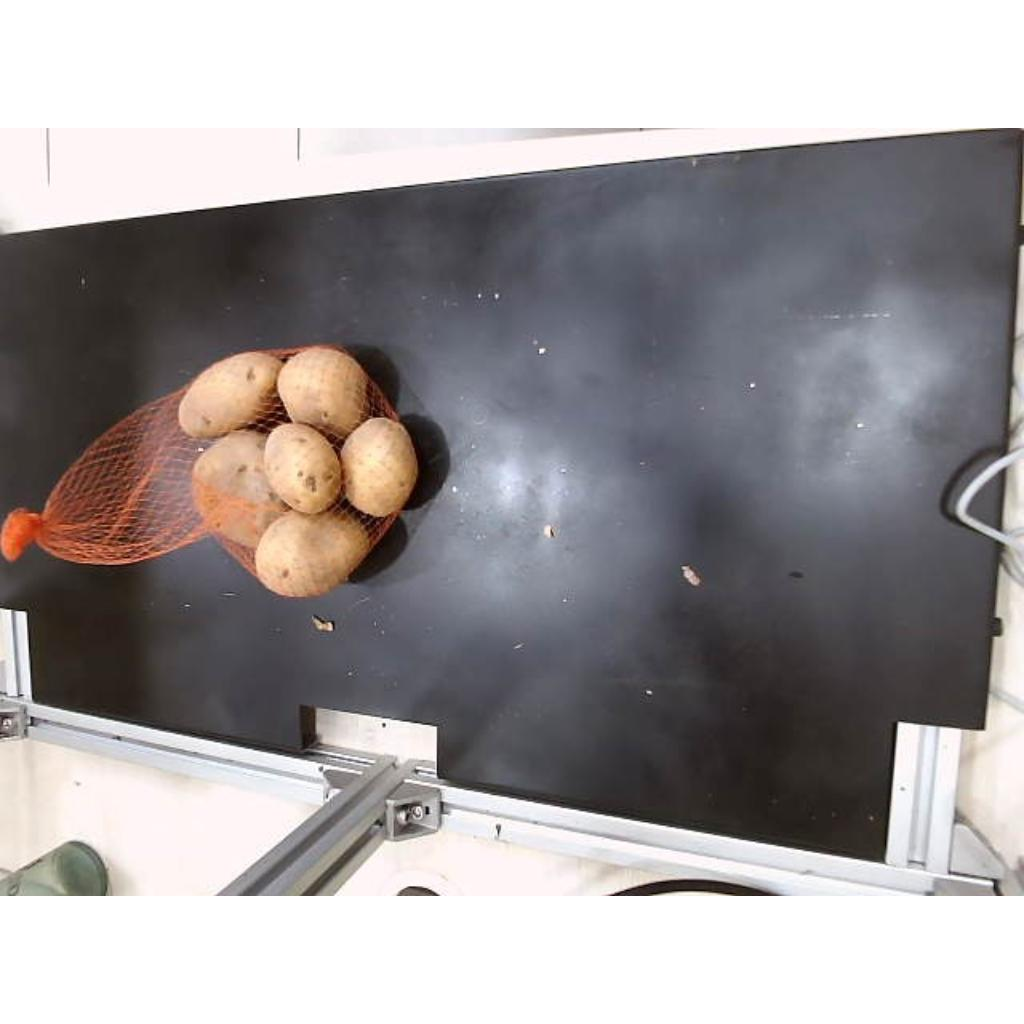potato: (194, 430, 288, 547), (254, 508, 370, 598), (178, 354, 282, 438), (278, 348, 368, 437), (340, 418, 418, 517), (264, 424, 340, 513)
